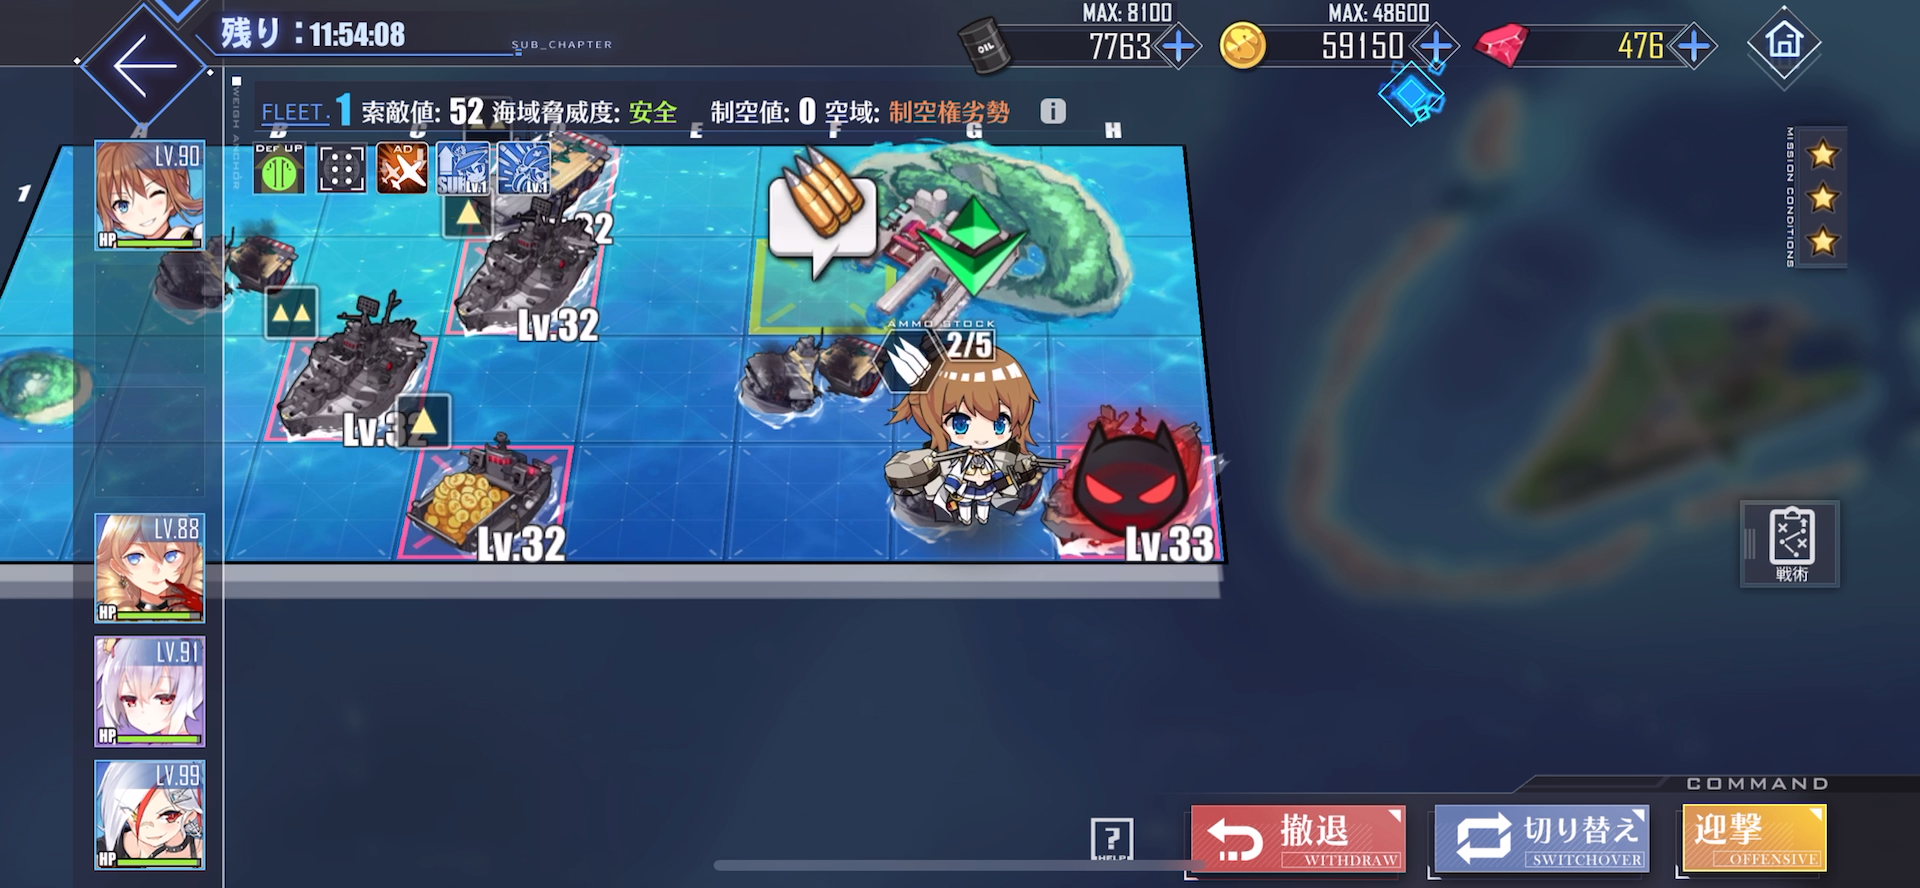boss: (1044, 404, 1228, 572)
